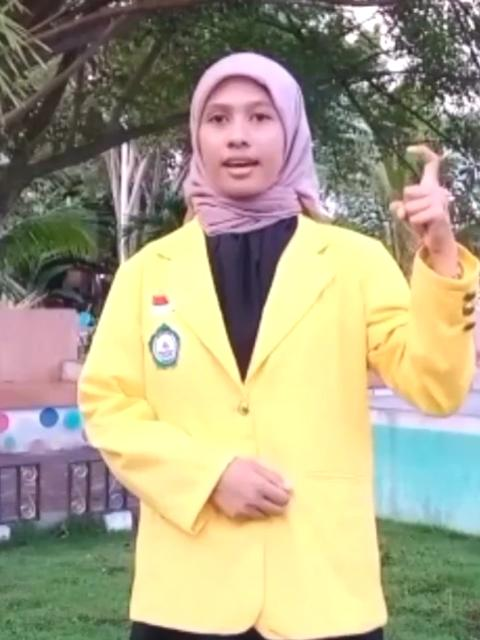X: (385, 140, 465, 258)
